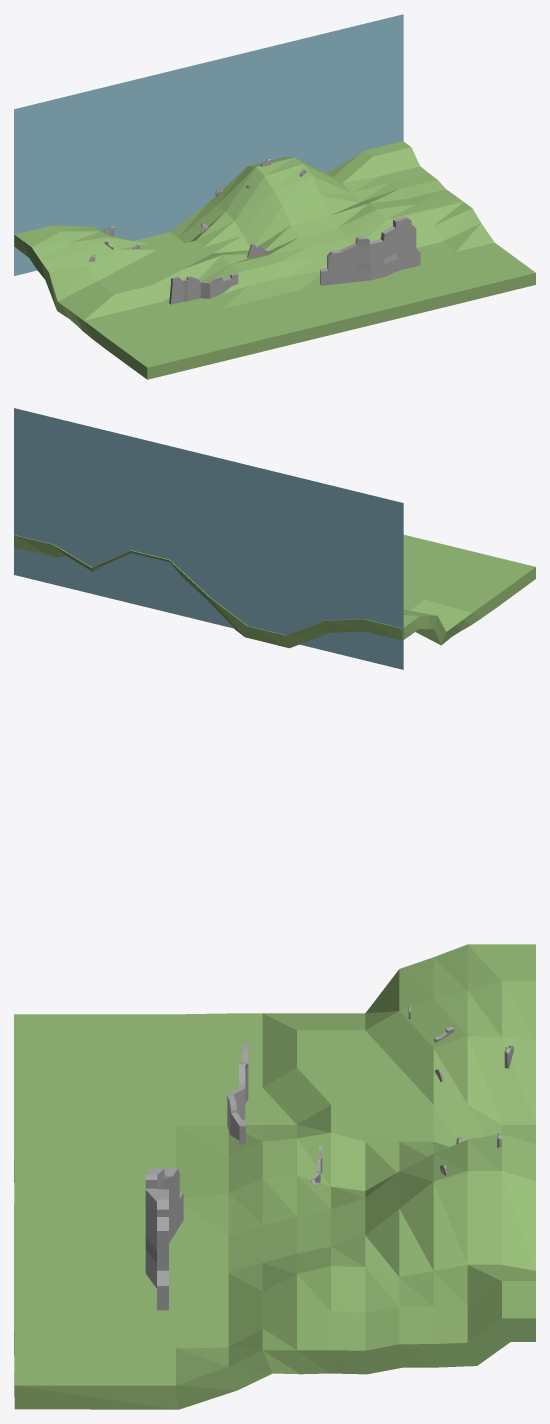
Rendered from ruins_background.fbx.
3 renders of one model, top to bottom at view 1: azimuth 30°, elevation 25°; view 2: azimuth 150°, elevation 25°; view 3: azimuth 270°, elevation 25°, orthographic. The views are drawn at different scales.
Visible parts, largest first — view 1: land, background_plane, land_side, background_wall, background_wall1; view 2: background_plane, land; view 3: land, background_wall, background_wall1.
Part boxes in pixels (left/top/right/bottom): land: left=14, top=141, right=535, bottom=379; background_plane: left=14, top=14, right=403, bottom=275; land_side: left=147, top=273, right=535, bottom=379; background_wall: left=320, top=216, right=420, bottom=285; background_wall1: left=169, top=273, right=238, bottom=304; background_plane: left=14, top=408, right=403, bottom=669; land: left=14, top=535, right=535, bottom=648; land: left=14, top=944, right=535, bottom=1409; background_wall: left=145, top=1167, right=183, bottom=1310; background_wall1: left=227, top=1043, right=248, bottom=1144.
Bounding box in the file's own units: 1290 × 550 × 762.
